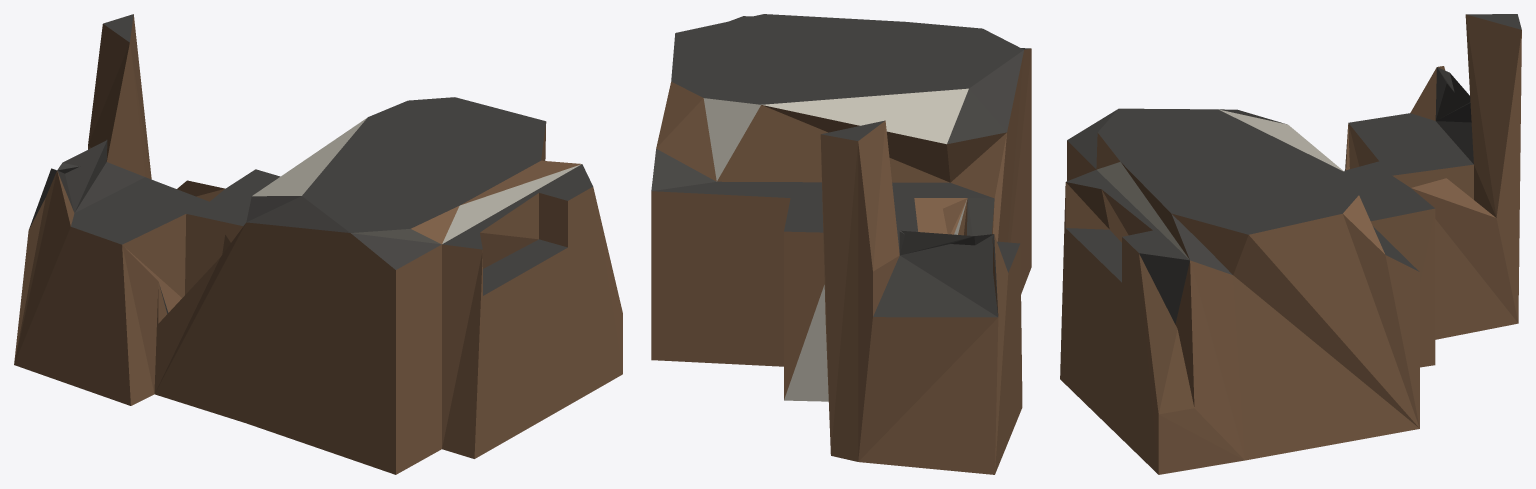
Rendered from aron-schuster-synagoge.lod2.glb.
The picture shows the model from 3 angles, left to right: view 1: azimuth 30°, elevation 25°; view 2: azimuth 150°, elevation 25°; view 3: azimuth 270°, elevation 25°; orthographic projection. The views are drawn at different scales.
Visible parts, largest first — view 1: lod2; view 2: lod2; view 3: lod2.
Part boxes in pixels (<box>): lod2: <box>14,14,622,474</box>; lod2: <box>651,14,1031,474</box>; lod2: <box>1060,14,1521,474</box>.
Size of the model in its own units: 35.18 by 22.6 by 31.81.
